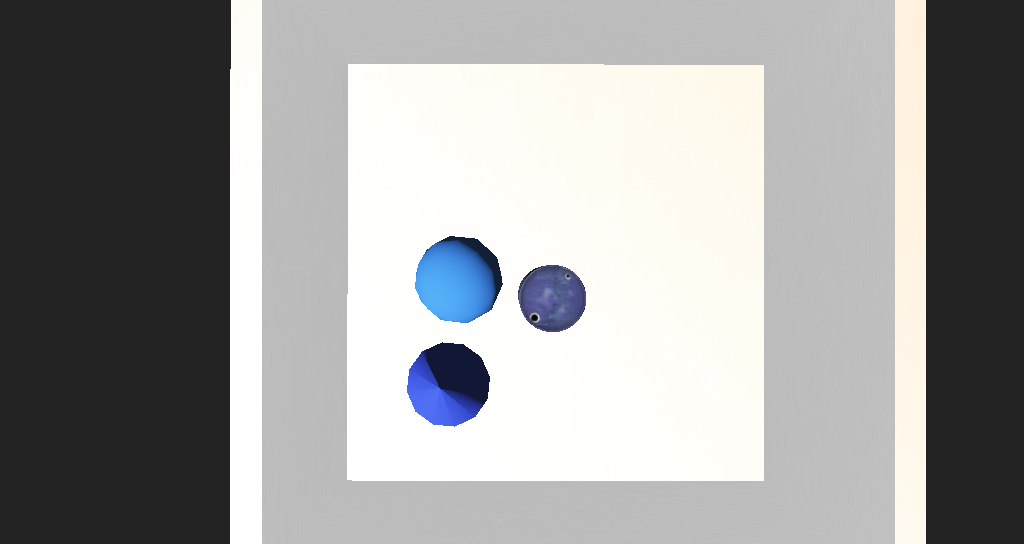cone: (478, 265, 519, 298)
cylinder: (387, 298, 461, 360)
sphere: (408, 248, 468, 296)
